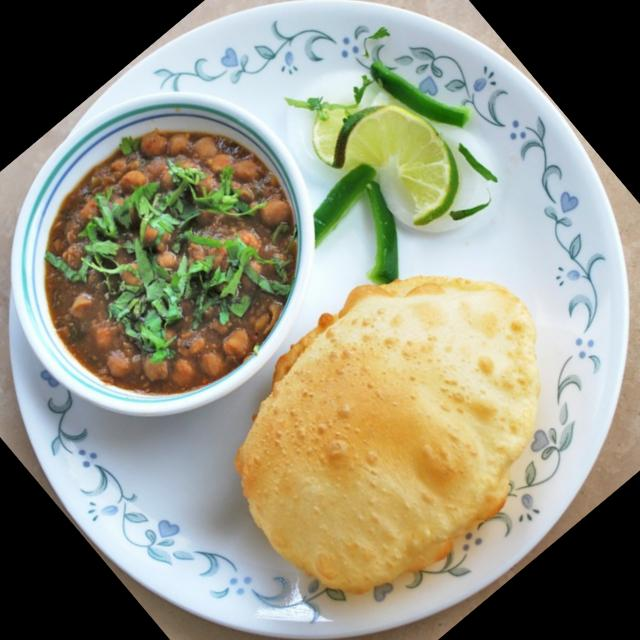Bhatura: (178, 210, 616, 636)
Chole: (0, 77, 345, 430)
